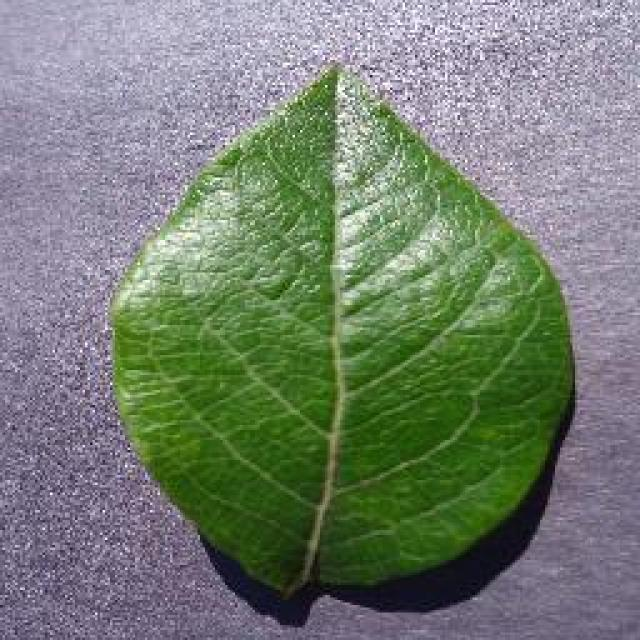Blu_healthy: (157, 154, 555, 551)
